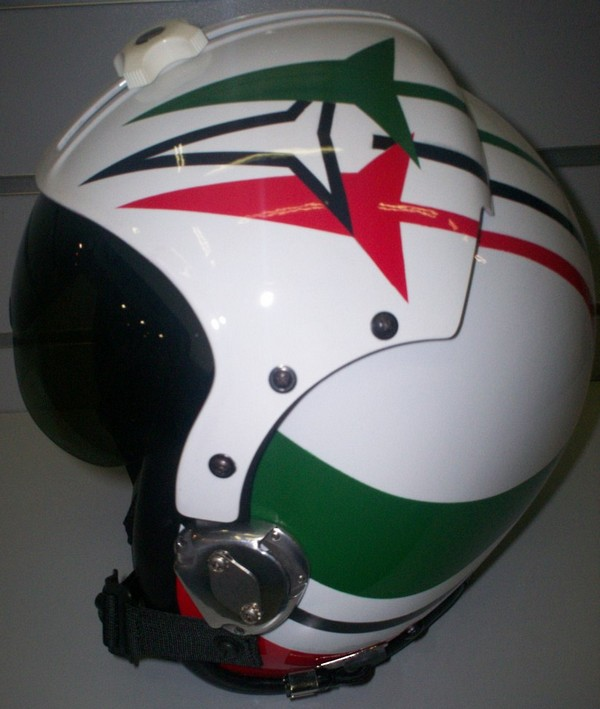helmet: (55, 42, 571, 646)
